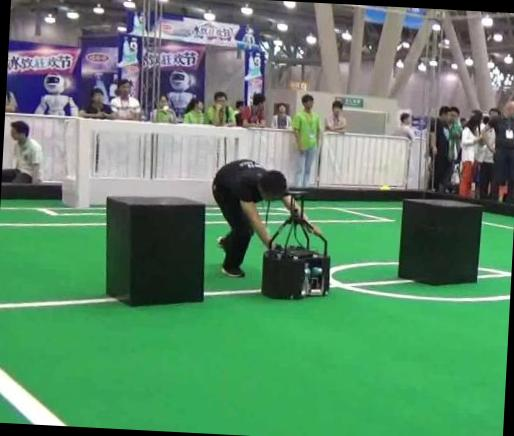goal: (74, 118, 92, 207)
person: (212, 159, 287, 277)
robot: (261, 193, 330, 299)
